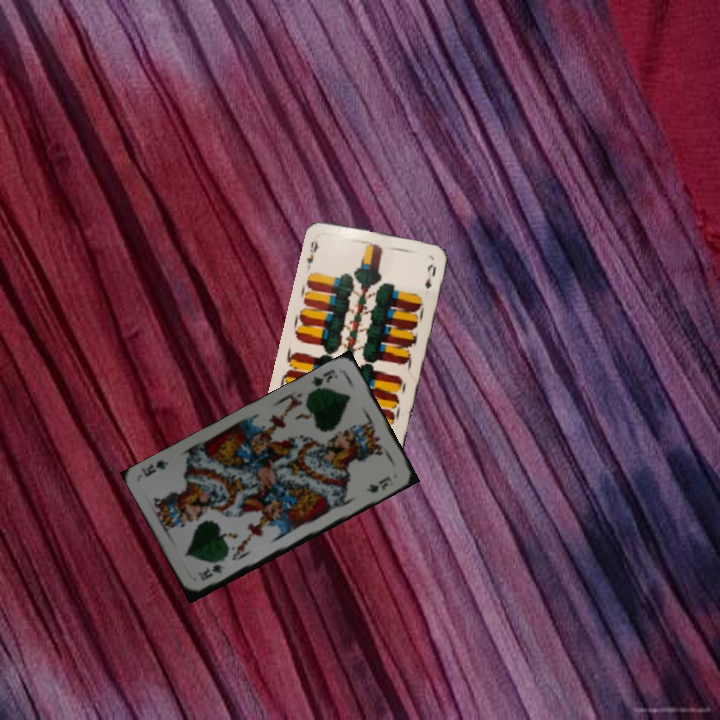E9: (303, 236, 321, 270)
GK: (306, 365, 341, 389), (195, 561, 227, 584)
